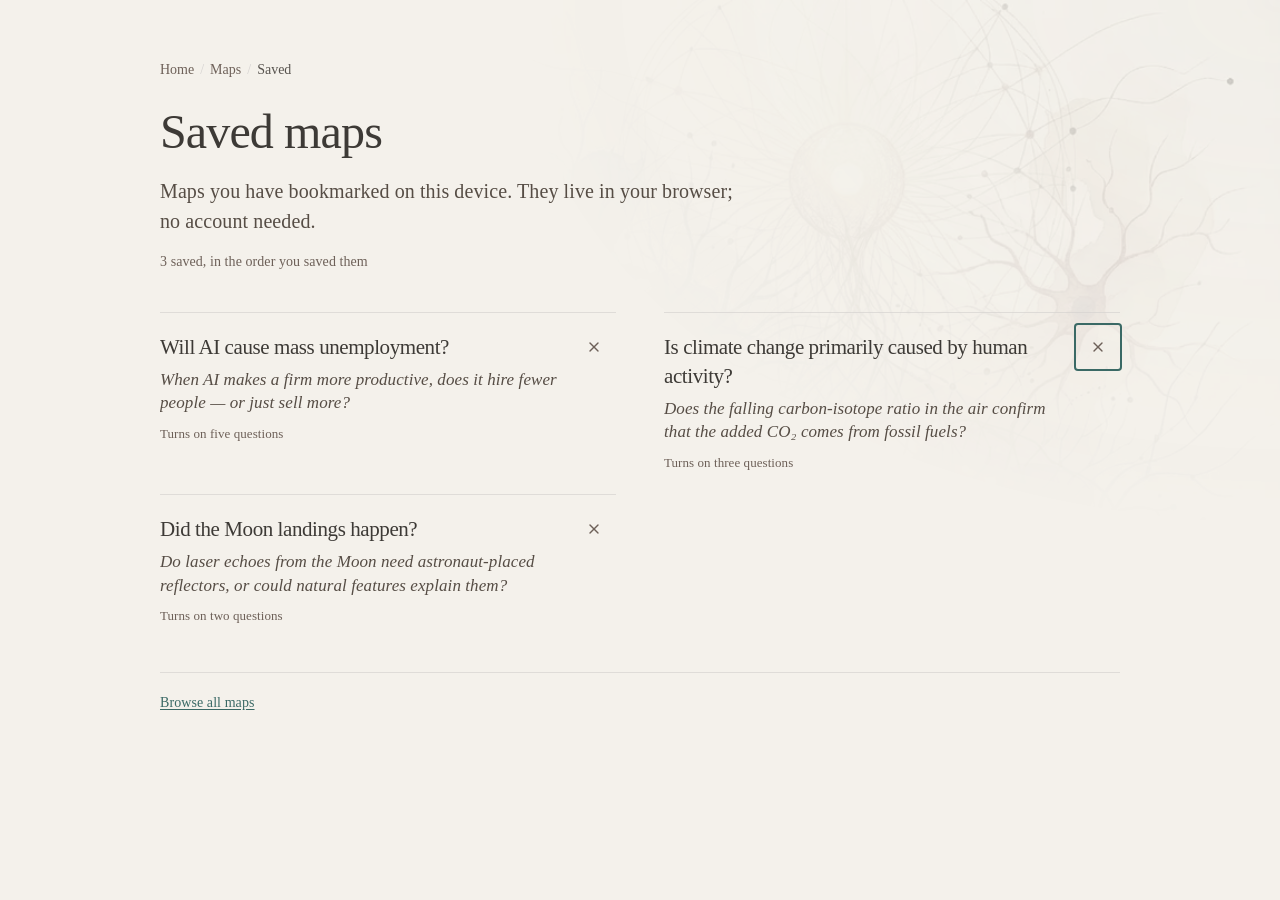
Scenario: SavedClient keyboard removal › keeps the original focus and bookmarks when storage rejects removal
Click the button named "from saved" at (1098, 347), box [1076,325,1120,369]
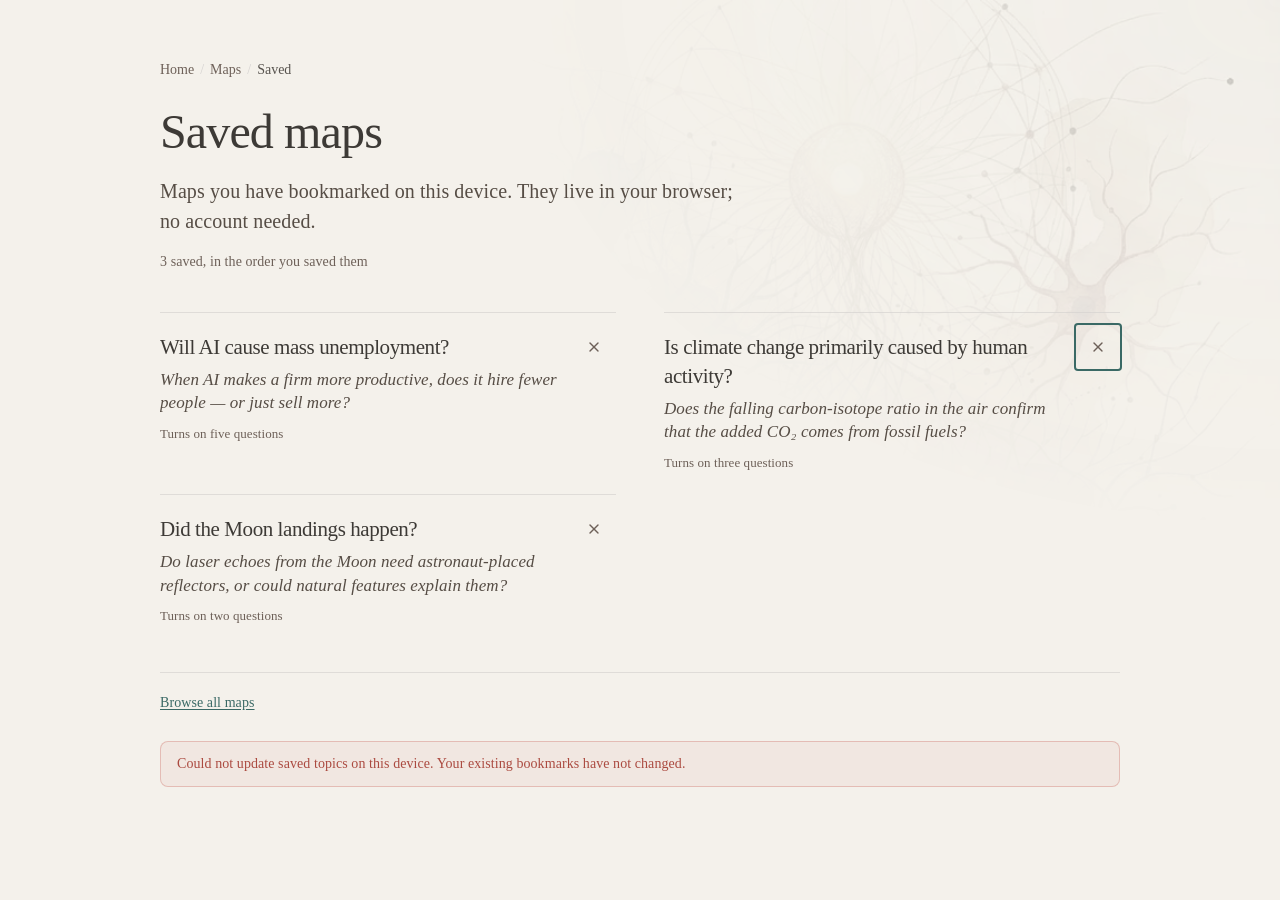
Expected: the number of buttons named "from saved" is 3, [572,325,616,369]; [1076,325,1120,369]; [572,507,616,551]
Expected: the message is shown, [160,741,1120,787]
